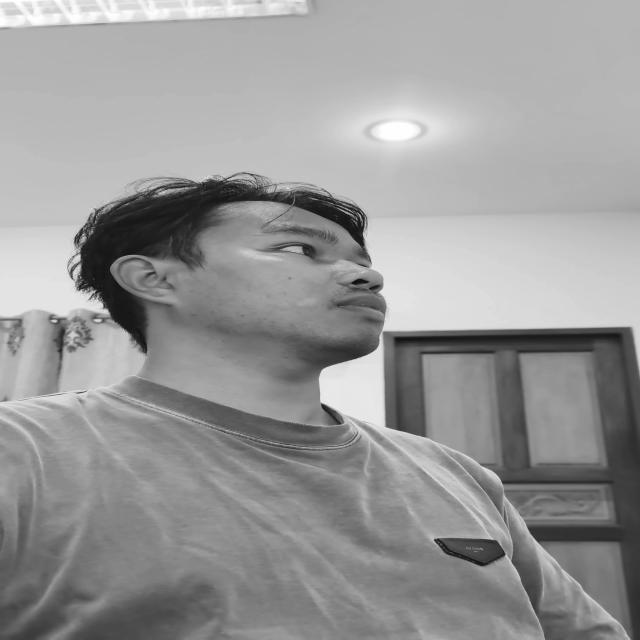ear: (110, 255, 174, 304)
